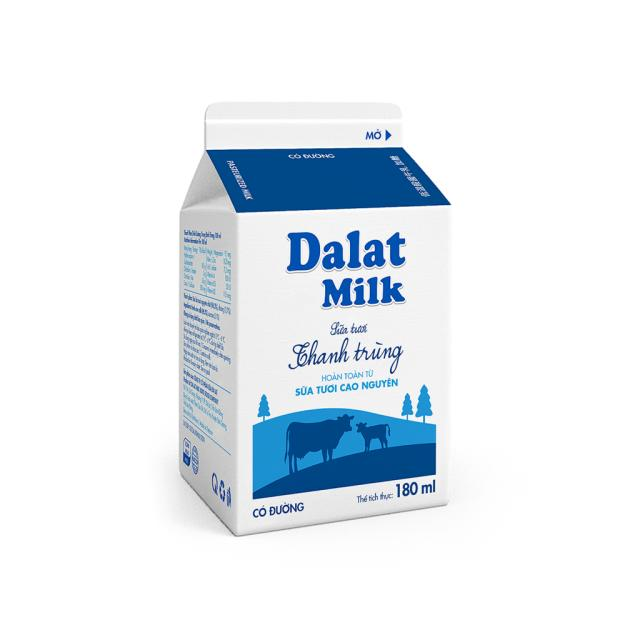Milk carton/jug: (170, 92, 459, 541)
